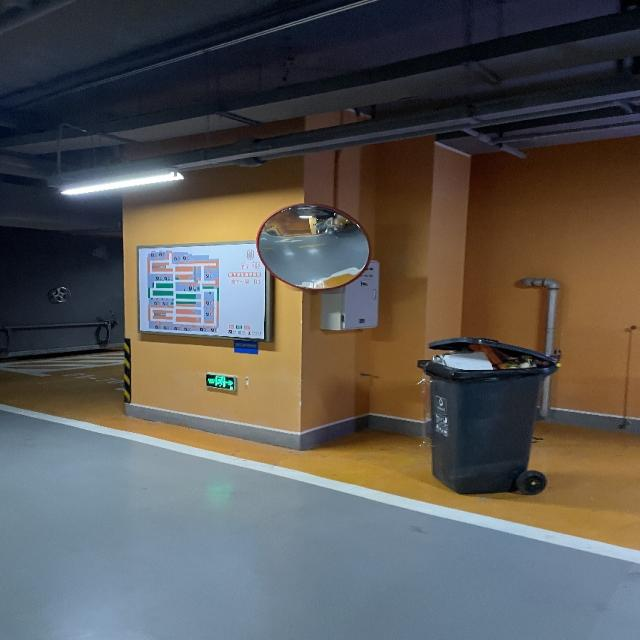overflow: (415, 337, 555, 494)
